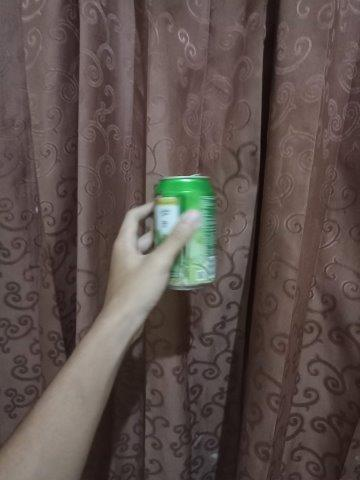kaleng: (153, 175, 216, 291)
